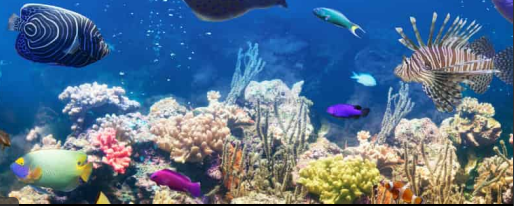fishRound: (12, 6, 110, 70), (9, 145, 92, 191)
fishSmall: (392, 11, 513, 113), (311, 4, 366, 38), (149, 167, 201, 197), (383, 180, 423, 203), (326, 103, 370, 121), (350, 70, 379, 87)
